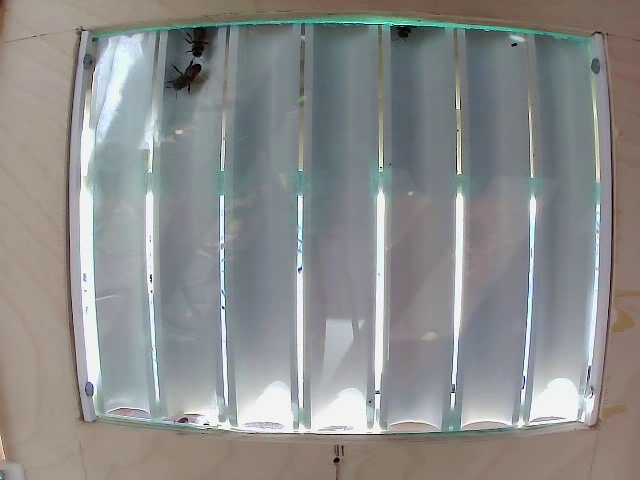bee: (174, 64, 202, 104), (190, 31, 214, 60)
